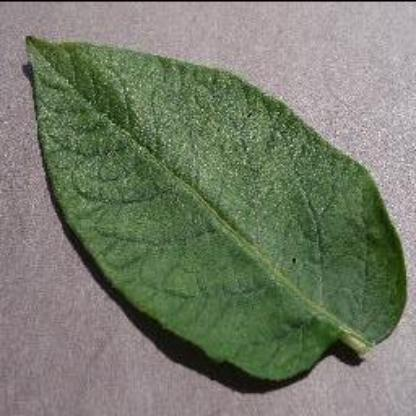Healthy-plant: (9, 20, 404, 392)
